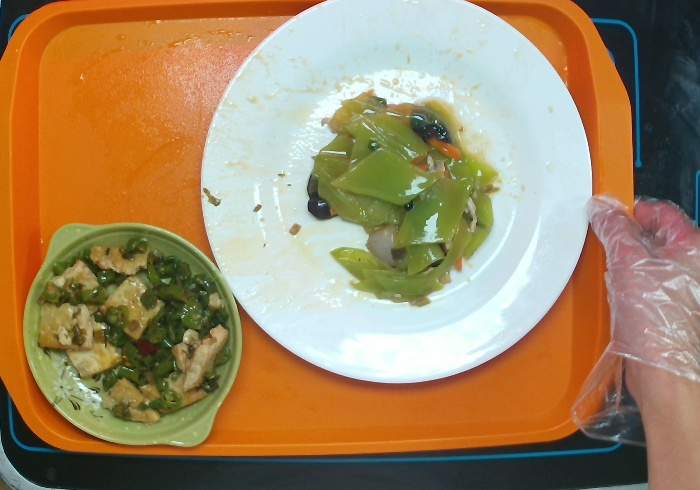NLDX-Da_Yuan_Pan: (197, 3, 592, 383)
NLDX-Lv_Hua_Shuang_Er_Die: (25, 221, 243, 447)
